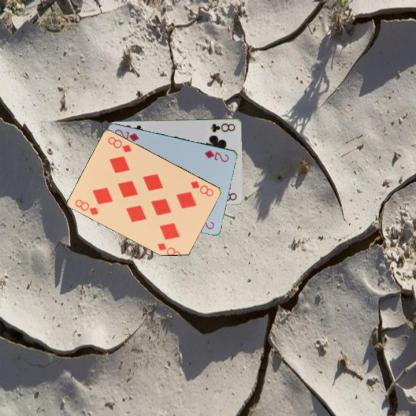2d: (202, 147, 230, 163)
8c: (208, 120, 236, 133)
8d: (188, 178, 215, 198), (73, 197, 100, 216)
